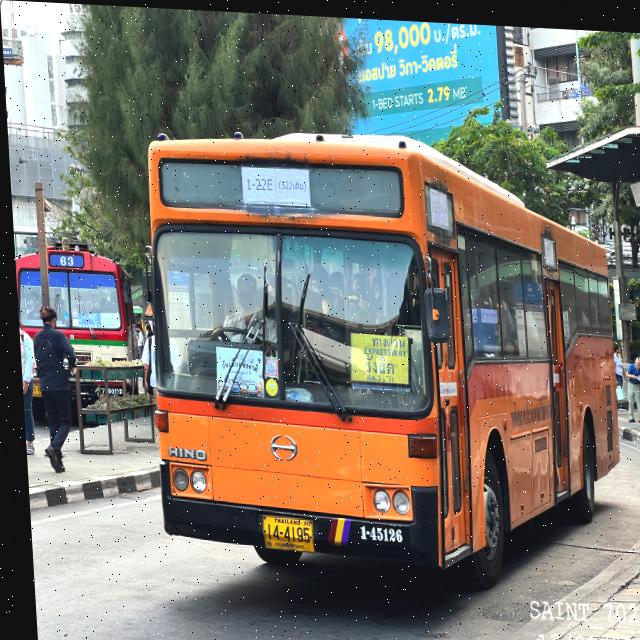BMTA-bus: (134, 122, 625, 589)
Bus-Line-Number: (235, 161, 316, 206)
Destination-Sign-Normal-Expressway: (345, 327, 408, 381)
